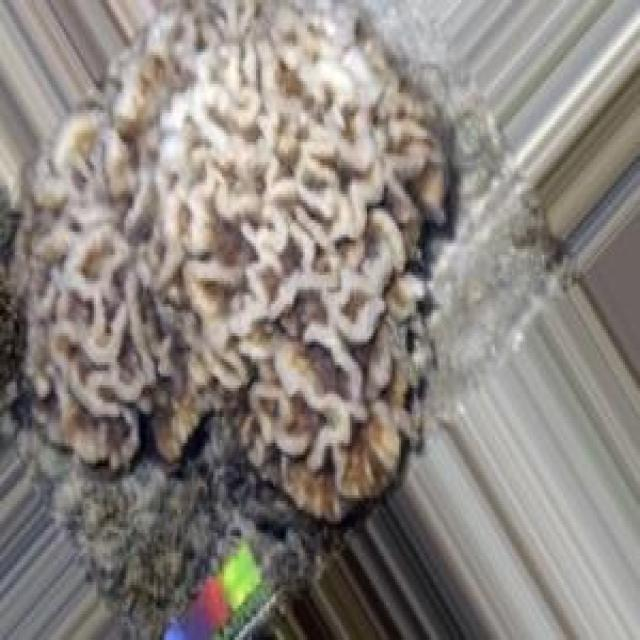Bleached: (1, 1, 435, 513)
